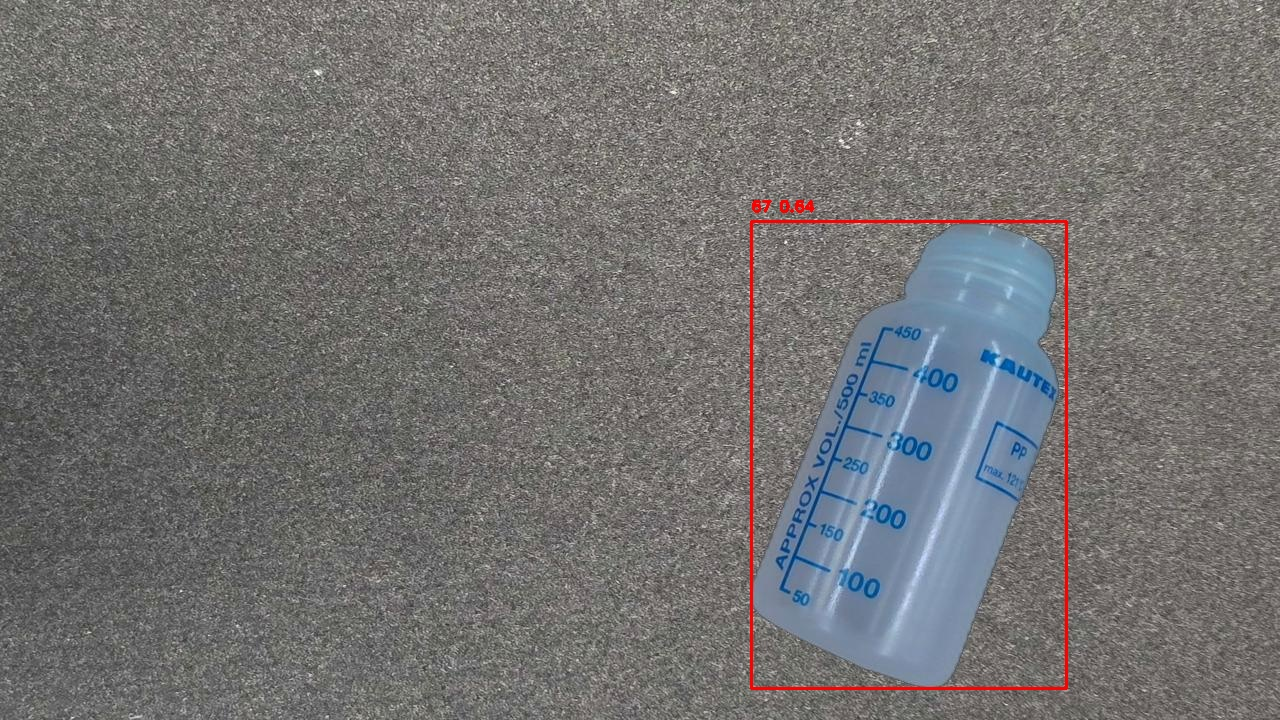cup: (751, 221, 1066, 688)
